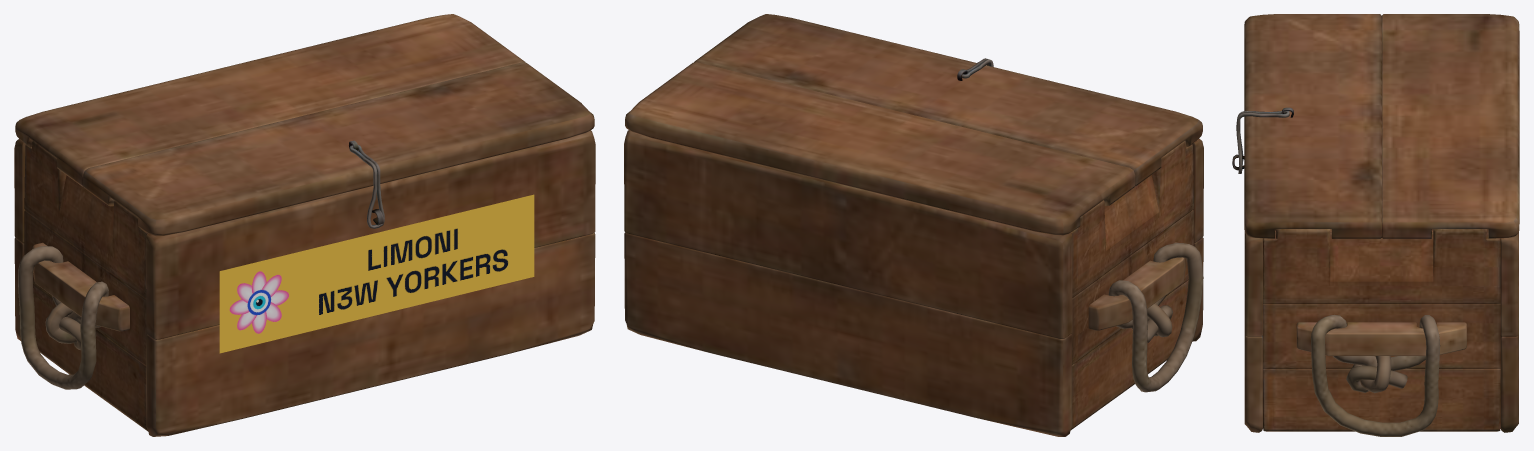
Rendered from nyb_feast_crate.glb.
3 renders of one model, left to right at view 1: azimuth 30°, elevation 25°; view 2: azimuth 150°, elevation 25°; view 3: azimuth 270°, elevation 25°, orthographic. The views are drawn at different scales.
Parts seen in each view (by area): view 1: wooden_crate_01_lid, stk_lbl_bfd77b22ad.png; view 2: wooden_crate_01_lid; view 3: wooden_crate_01_lid.
Boxes of the visible parts, <box> form: wooden_crate_01_lid: <box>14,14,595,436</box>; stk_lbl_bfd77b22ad.png: <box>219,194,534,353</box>; wooden_crate_01_lid: <box>624,14,1203,436</box>; wooden_crate_01_lid: <box>1232,14,1519,436</box>.
Size of the model in its own units: 0.8253 by 0.3496 by 0.4089.
Materials: 2 (2 with a texture image).
